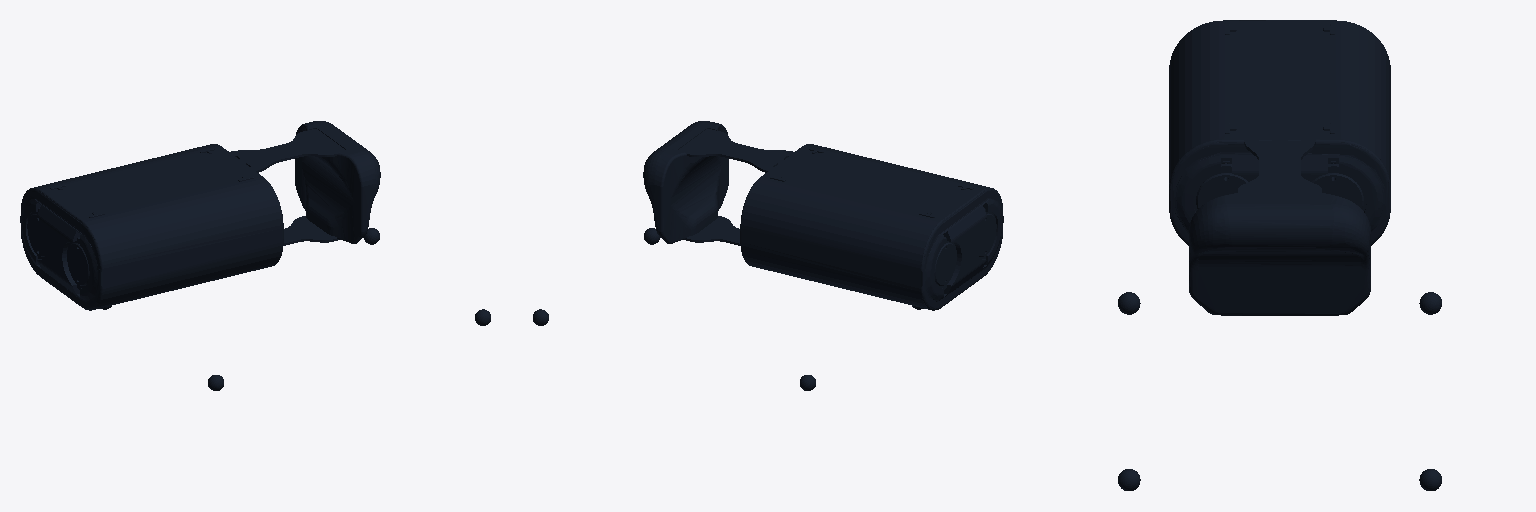
robot.urdf — a1_description:
<?xml version="1.0" ?>
<robot name="a1_description" xmlns:xacro="http://www.ros.org/wiki/xacro">
  <material name="black">
    <color rgba="0.0 0.0 0.0 1.0"/>
  </material>
  <material name="blue">
    <color rgba="0.0 0.0 0.8 1.0"/>
  </material>
  <material name="green">
    <color rgba="0.0 0.8 0.0 1.0"/>
  </material>
  <material name="grey">
    <color rgba="0.2 0.2 0.2 1.0"/>
  </material>
  <material name="silver">
    <color rgba="0.913725490196 0.913725490196 0.847058823529 1.0"/>
  </material>
  <material name="orange">
    <!-- <color rgba="1.0 0.423529411765 0.0392156862745 1.0"/> -->
    <color rgba="0.12 0.15 0.2 1.0"/>
  </material>
  <material name="brown">
    <color rgba="0.870588235294 0.811764705882 0.764705882353 1.0"/>
  </material>
  <material name="red">
    <color rgba="0.8 0.0 0.0 1.0"/>
  </material>
  <material name="white">
    <color rgba="1.0 1.0 1.0 1.0"/>
  </material>
  
  <link name="trunk">
    <visual>
      <origin rpy="0 0 0" xyz="0 0 0"/>
      <geometry>
        <mesh filename="../meshes/trunk.obj" scale="1 1 1"/>
      </geometry>
      <material name="orange"/>
    </visual>
    <collision>
      <origin rpy="0 0 0" xyz="0 0 0"/>
      <geometry>
        <box size="0.267 0.194 0.114"/>
      </geometry>
    </collision>
    <inertial>
     <origin rpy="0 0 0" xyz="0.012731 0.002186 0.000515"/>
      <mass value="4.713"/>
      <inertia ixx="0.01683993" ixy="8.3902e-05" ixz="0.000597679" iyy="0.056579028" iyz="2.5134e-05" izz="0.064713601"/>
    </inertial>
  </link>
  
  <joint name="FL_hip_joint" type="revolute">
    <origin rpy="0 0 0" xyz="0.183 0.047 0"/>
    <parent link="trunk"/>
    <child link="FL_hip"/>
    <axis xyz="1 0 0"/>
    <dynamics damping="0" friction="0"/>
    <limit effort="20" lower="-0.802851455917" upper="0.802851455917" velocity="52.4"/>
  </joint>
  <link name="FL_hip">
    <!-- <collision>
      <origin rpy="1.57079632679 0 0" xyz="0 0 0"/>
      <geometry>
        <cylinder length="0.04" radius="0.046"/>
      </geometry>
    </collision> -->
    <inertial>
      <origin rpy="0 0 0" xyz="-0.003311 0.000635 3.1e-05"/>
      <mass value="0.696"/>
      <inertia ixx="0.000469246" ixy="-9.409e-06" ixz="-3.42e-07" iyy="0.00080749" iyz="-4.66e-07" izz="0.000552929"/>
    </inertial>
  </link>
  <joint name="FL_hip_fixed" type="fixed">
    <origin rpy="0 0 0" xyz="0 0.081 0"/>
    <parent link="FL_hip"/>
    <child link="FL_thigh_shoulder"/>
  </joint>
  <!-- this link is only for collision -->
  <link name="FL_thigh_shoulder">
    <!-- <collision>
      <origin rpy="1.57079632679 0 0" xyz="0 0 0"/>
      <geometry>
        <cylinder length="0.032" radius="0.041"/>
      </geometry>
    </collision> -->
  </link>
  <joint name="FL_thigh_joint" type="revolute">
    <origin rpy="0 0 0" xyz="0 0.08505 0"/>
    <parent link="FL_hip"/>
    <child link="FL_thigh"/>
    <axis xyz="0 1 0"/>
    <dynamics damping="0" friction="0"/>
    <limit effort="55" lower="-1.0471975512" upper="4.18879020479" velocity="28.6"/>
  </joint>
  <link name="FL_thigh">
    <collision>
      <origin rpy="0 1.57079632679 0" xyz="0 0 -0.1"/>
      <geometry>
        <box size="0.2 0.0245 0.034"/>
      </geometry>
    </collision>
    <inertial>
      <origin rpy="0 0 0" xyz="-0.003237 -0.022327 -0.027326"/>
      <mass value="1.013"/>
      <inertia ixx="0.005529065" ixy="4.825e-06" ixz="0.000343869" iyy="0.005139339" iyz="2.2448e-05" izz="0.001367788"/>
    </inertial>
  </link>
  <joint name="FL_calf_joint" type="revolute">
    <origin rpy="0 0 0" xyz="0 0 -0.2"/>
    <parent link="FL_thigh"/>
    <child link="FL_calf"/>
    <axis xyz="0 1 0"/>
    <dynamics damping="0" friction="0"/>
    <limit effort="55" lower="-2.69653369433" upper="-0.916297857297" velocity="28.6"/>
  </joint>
  <link name="FL_calf">
    <collision>
      <origin rpy="0 1.57079632679 0" xyz="0 0 -0.1"/>
      <geometry>
        <box size="0.2 0.016 0.016"/>
      </geometry>
    </collision>
    <inertial>
      <origin rpy="0 0 0" xyz="0.006435 0.0 -0.107388"/>
      <mass value="0.166"/>
      <inertia ixx="0.002997972" ixy="0.0" ixz="-0.000141163" iyy="0.003014022" iyz="0.0" izz="3.2426e-05"/>
    </inertial>
  </link>
  <joint name="FL_foot_fixed" type="fixed" dont_collapse="true">
    <origin rpy="0 0 0" xyz="0 0 -0.2"/>
    <parent link="FL_calf"/>
    <child link="FL_foot"/>
  </joint>
  <link name="FL_foot">
    <visual>
      <origin rpy="0 0 0" xyz="0 0 0"/>
      <geometry>
        <sphere radius="0.01"/>
      </geometry>
      <material name="orange"/>
    </visual>
    <collision>
      <origin rpy="0 0 0" xyz="0 0 0"/>
      <geometry>
        <sphere radius="0.02"/>
      </geometry>
    </collision>
    <inertial>
      <mass value="0.06"/>
      <inertia ixx="9.6e-06" ixy="0.0" ixz="0.0" iyy="9.6e-06" iyz="0.0" izz="9.6e-06"/>
    </inertial>
  </link>
  
  <joint name="FR_hip_joint" type="revolute">
    <origin rpy="0 0 0" xyz="0.183 -0.047 0"/>
    <parent link="trunk"/>
    <child link="FR_hip"/>
    <axis xyz="1 0 0"/>
    <dynamics damping="0" friction="0"/>
    <limit effort="20" lower="-0.802851455917" upper="0.802851455917" velocity="52.4"/>
  </joint>
  <link name="FR_hip">
    <!-- <collision>
      <origin rpy="1.57079632679 0 0" xyz="0 0 0"/>
      <geometry>
        <cylinder length="0.04" radius="0.046"/>
      </geometry>
    </collision> -->
    <inertial>
      <origin rpy="0 0 0" xyz="-0.003311 -0.000635 3.1e-05"/>
      <mass value="0.696"/>
      <inertia ixx="0.000469246" ixy="9.409e-06" ixz="-3.42e-07" iyy="0.00080749" iyz="4.66e-07" izz="0.000552929"/>
    </inertial>
  </link>
  <joint name="FR_hip_fixed" type="fixed">
    <origin rpy="0 0 0" xyz="0 -0.081 0"/>
    <parent link="FR_hip"/>
    <child link="FR_thigh_shoulder"/>
  </joint>
  <!-- this link is only for collision -->
  <link name="FR_thigh_shoulder">
    <!-- <collision>
      <origin rpy="1.57079632679 0 0" xyz="0 0 0"/>
      <geometry>
        <cylinder length="0.032" radius="0.041"/>
      </geometry>
    </collision> -->
  </link>
  <joint name="FR_thigh_joint" type="revolute">
    <origin rpy="0 0 0" xyz="0 -0.08505 0"/>
    <parent link="FR_hip"/>
    <child link="FR_thigh"/>
    <axis xyz="0 1 0"/>
    <dynamics damping="0" friction="0"/>
    <limit effort="55" lower="-1.0471975512" upper="4.18879020479" velocity="28.6"/>
  </joint>
  <link name="FR_thigh">
    <collision>
      <origin rpy="0 1.57079632679 0" xyz="0 0 -0.1"/>
      <geometry>
        <box size="0.2 0.0245 0.034"/>
      </geometry>
    </collision>
    <inertial>
      <origin rpy="0 0 0" xyz="-0.003237 0.022327 -0.027326"/>
      <mass value="1.013"/>
      <inertia ixx="0.005529065" ixy="-4.825e-06" ixz="0.000343869" iyy="0.005139339" iyz="-2.2448e-05" izz="0.001367788"/>
    </inertial>
  </link>
  <joint name="FR_calf_joint" type="revolute">
    <origin rpy="0 0 0" xyz="0 0 -0.2"/>
    <parent link="FR_thigh"/>
    <child link="FR_calf"/>
    <axis xyz="0 1 0"/>
    <dynamics damping="0" friction="0"/>
    <limit effort="55" lower="-2.69653369433" upper="-0.916297857297" velocity="28.6"/>
  </joint>
  <link name="FR_calf">
    <collision>
      <origin rpy="0 1.57079632679 0" xyz="0 0 -0.1"/>
      <geometry>
        <box size="0.2 0.016 0.016"/>
      </geometry>
    </collision>
    <inertial>
      <origin rpy="0 0 0" xyz="0.006435 0.0 -0.107388"/>
      <mass value="0.166"/>
      <inertia ixx="0.002997972" ixy="0.0" ixz="-0.000141163" iyy="0.003014022" iyz="0.0" izz="3.2426e-05"/>
    </inertial>
  </link>
  <joint name="FR_foot_fixed" type="fixed" dont_collapse="true">
    <origin rpy="0 0 0" xyz="0 0 -0.2"/>
    <parent link="FR_calf"/>
    <child link="FR_foot"/>
  </joint>
  <link name="FR_foot">
    <visual>
      <origin rpy="0 0 0" xyz="0 0 0"/>
      <geometry>
        <sphere radius="0.01"/>
      </geometry>
      <material name="orange"/>
    </visual>
    <collision>
      <origin rpy="0 0 0" xyz="0 0 0"/>
      <geometry>
        <sphere radius="0.02"/>
      </geometry>
    </collision>
    <inertial>
      <mass value="0.06"/>
      <inertia ixx="9.6e-06" ixy="0.0" ixz="0.0" iyy="9.6e-06" iyz="0.0" izz="9.6e-06"/>
    </inertial>
  </link>
  
  
  <joint name="RL_hip_joint" type="revolute">
    <origin rpy="0 0 0" xyz="-0.183 0.047 0"/>
    <parent link="trunk"/>
    <child link="RL_hip"/>
    <axis xyz="1 0 0"/>
    <dynamics damping="0" friction="0"/>
    <limit effort="20" lower="-0.802851455917" upper="0.802851455917" velocity="52.4"/>
  </joint>
  <link name="RL_hip">
    <!-- <collision>
      <origin rpy="1.57079632679 0 0" xyz="0 0 0"/>
      <geometry>
        <cylinder length="0.04" radius="0.046"/>
      </geometry>
    </collision> -->
    <inertial>
      <origin rpy="0 0 0" xyz="0.003311 0.000635 3.1e-05"/>
      <mass value="0.696"/>
      <inertia ixx="0.000469246" ixy="9.409e-06" ixz="3.42e-07" iyy="0.00080749" iyz="-4.66e-07" izz="0.000552929"/>
    </inertial>
  </link>
  <joint name="RL_hip_fixed" type="fixed">
    <origin rpy="0 0 0" xyz="0 0.081 0"/>
    <parent link="RL_hip"/>
    <child link="RL_thigh_shoulder"/>
  </joint>
  <!-- this link is only for collision -->
  <link name="RL_thigh_shoulder">
    <!-- <collision>
      <origin rpy="1.57079632679 0 0" xyz="0 0 0"/>
      <geometry>
        <cylinder length="0.032" radius="0.041"/>
      </geometry>
    </collision> -->
  </link>
  <joint name="RL_thigh_joint" type="revolute">
    <origin rpy="0 0 0" xyz="0 0.08505 0"/>
    <parent link="RL_hip"/>
    <child link="RL_thigh"/>
    <axis xyz="0 1 0"/>
    <dynamics damping="0" friction="0"/>
    <limit effort="55" lower="-1.0471975512" upper="4.18879020479" velocity="28.6"/>
  </joint>
  <link name="RL_thigh">
    <collision>
      <origin rpy="0 1.57079632679 0" xyz="0 0 -0.1"/>
      <geometry>
        <box size="0.2 0.0245 0.034"/>
      </geometry>
    </collision>
    <inertial>
      <origin rpy="0 0 0" xyz="-0.003237 -0.022327 -0.027326"/>
      <mass value="1.013"/>
      <inertia ixx="0.005529065" ixy="4.825e-06" ixz="0.000343869" iyy="0.005139339" iyz="2.2448e-05" izz="0.001367788"/>
    </inertial>
  </link>
  <joint name="RL_calf_joint" type="revolute">
    <origin rpy="0 0 0" xyz="0 0 -0.2"/>
    <parent link="RL_thigh"/>
    <child link="RL_calf"/>
    <axis xyz="0 1 0"/>
    <dynamics damping="0" friction="0"/>
    <limit effort="55" lower="-2.69653369433" upper="-0.916297857297" velocity="28.6"/>
  </joint>
  <link name="RL_calf">
    <inertial>
      <origin rpy="0 0 0" xyz="0.006435 0.0 -0.107388"/>
      <mass value="0.166"/>
      <inertia ixx="0.002997972" ixy="0.0" ixz="-0.000141163" iyy="0.003014022" iyz="0.0" izz="3.2426e-05"/>
    </inertial>
  </link>
  <joint name="RL_foot_fixed" type="fixed" dont_collapse="true">
    <origin rpy="0 0 0" xyz="0 0 -0.2"/>
    <parent link="RL_calf"/>
    <child link="RL_foot"/>
  </joint>
  <link name="RL_foot">
    <visual>
      <origin rpy="0 0 0" xyz="0 0 0"/>
      <geometry>
        <sphere radius="0.01"/>
      </geometry>
      <material name="orange"/>
    </visual>
    <collision>
      <origin rpy="0 0 0" xyz="0 0 0"/>
      <geometry>
        <sphere radius="0.02"/>
      </geometry>
    </collision>
    <inertial>
      <mass value="0.06"/>
      <inertia ixx="9.6e-06" ixy="0.0" ixz="0.0" iyy="9.6e-06" iyz="0.0" izz="9.6e-06"/>
    </inertial>
  </link>
  
  <joint name="RR_hip_joint" type="revolute">
    <origin rpy="0 0 0" xyz="-0.183 -0.047 0"/>
    <parent link="trunk"/>
    <child link="RR_hip"/>
    <axis xyz="1 0 0"/>
    <dynamics damping="0" friction="0"/>
    <limit effort="20" lower="-0.802851455917" upper="0.802851455917" velocity="52.4"/>
  </joint>
  <link name="RR_hip">
    <!-- <collision>
      <origin rpy="1.57079632679 0 0" xyz="0 0 0"/>
      <geometry>
        <cylinder length="0.04" radius="0.046"/>
      </geometry>
    </collision> -->
    <inertial>
      <origin rpy="0 0 0" xyz="0.003311 -0.000635 3.1e-05"/>
      <mass value="0.696"/>
      <inertia ixx="0.000469246" ixy="-9.409e-06" ixz="3.42e-07" iyy="0.00080749" iyz="4.66e-07" izz="0.000552929"/>
    </inertial>
  </link>
  <joint name="RR_hip_fixed" type="fixed">
    <origin rpy="0 0 0" xyz="0 -0.081 0"/>
    <parent link="RR_hip"/>
    <child link="RR_thigh_shoulder"/>
  </joint>
  <!-- this link is only for collision -->
  <link name="RR_thigh_shoulder">
    <!-- <collision>
      <origin rpy="1.57079632679 0 0" xyz="0 0 0"/>
      <geometry>
        <cylinder length="0.032" radius="0.041"/>
      </geometry>
    </collision> -->
  </link>
  <joint name="RR_thigh_joint" type="revolute">
    <origin rpy="0 0 0" xyz="0 -0.08505 0"/>
    <parent link="RR_hip"/>
    <child link="RR_thigh"/>
    <axis xyz="0 1 0"/>
    <dynamics damping="0" friction="0"/>
    <limit effort="55" lower="-1.0471975512" upper="4.18879020479" velocity="28.6"/>
  </joint>
  <link name="RR_thigh">
    <collision>
      <origin rpy="0 1.57079632679 0" xyz="0 0 -0.1"/>
      <geometry>
        <box size="0.2 0.0245 0.034"/>
      </geometry>
    </collision>
    <inertial>
      <origin rpy="0 0 0" xyz="-0.003237 0.022327 -0.027326"/>
      <mass value="1.013"/>
      <inertia ixx="0.005529065" ixy="-4.825e-06" ixz="0.000343869" iyy="0.005139339" iyz="-2.2448e-05" izz="0.001367788"/>
    </inertial>
  </link>
  <joint name="RR_calf_joint" type="revolute">
    <origin rpy="0 0 0" xyz="0 0 -0.2"/>
    <parent link="RR_thigh"/>
    <child link="RR_calf"/>
    <axis xyz="0 1 0"/>
    <dynamics damping="0" friction="0"/>
    <limit effort="55" lower="-2.69653369433" upper="-0.916297857297" velocity="28.6"/>
  </joint>
  <link name="RR_calf">
    <collision>
      <origin rpy="0 1.57079632679 0" xyz="0 0 -0.1"/>
      <geometry>
        <box size="0.2 0.016 0.016"/>
      </geometry>
    </collision>
    <inertial>
      <origin rpy="0 0 0" xyz="0.006435 0.0 -0.107388"/>
      <mass value="0.166"/>
      <inertia ixx="0.002997972" ixy="0.0" ixz="-0.000141163" iyy="0.003014022" iyz="0.0" izz="3.2426e-05"/>
    </inertial>
  </link>
  <joint name="RR_foot_fixed" type="fixed" dont_collapse="true">
    <origin rpy="0 0 0" xyz="0 0 -0.2"/>
    <parent link="RR_calf"/>
    <child link="RR_foot"/>
  </joint>
  <link name="RR_foot">
    <visual>
      <origin rpy="0 0 0" xyz="0 0 0"/>
      <geometry>
        <sphere radius="0.01"/>
      </geometry>
      <material name="orange"/>
    </visual>
    <collision>
      <origin rpy="0 0 0" xyz="0 0 0"/>
      <geometry>
        <sphere radius="0.02"/>
      </geometry>
    </collision>
    <inertial>
      <mass value="0.06"/>
      <inertia ixx="9.6e-06" ixy="0.0" ixz="0.0" iyy="9.6e-06" iyz="0.0" izz="9.6e-06"/>
    </inertial>
  </link>
</robot>

--- What the picture shows (computed from the rendered views, not written in the file) ---
The picture shows the robot from 3 angles, left to right: view 1: azimuth 30°, elevation 25°; view 2: azimuth 150°, elevation 25°; view 3: azimuth 270°, elevation 25°; orthographic projection.
Robot: a1_description — 21 links, 20 joints (12 revolute, 8 fixed); root link trunk; default pose: all joints at 0 but 4 set to mid-range because 0 is outside their limits (FL_calf_joint = -1.81, FR_calf_joint = -1.81, RL_calf_joint = -1.81, RR_calf_joint = -1.81).
Visible links, largest first — view 1: trunk; view 2: trunk; view 3: trunk.
Boxes of the visible links, x1,y1,x2,y2 form: trunk: (20,121,380,310); trunk: (643,121,1003,310); trunk: (1169,20,1390,315).
Bounding box of the posed robot: 0.521 × 0.2841 × 0.2218 m (x, y, z).
Meshes: 1 distinct files referenced, 1 mesh visuals loaded (1 OBJ).